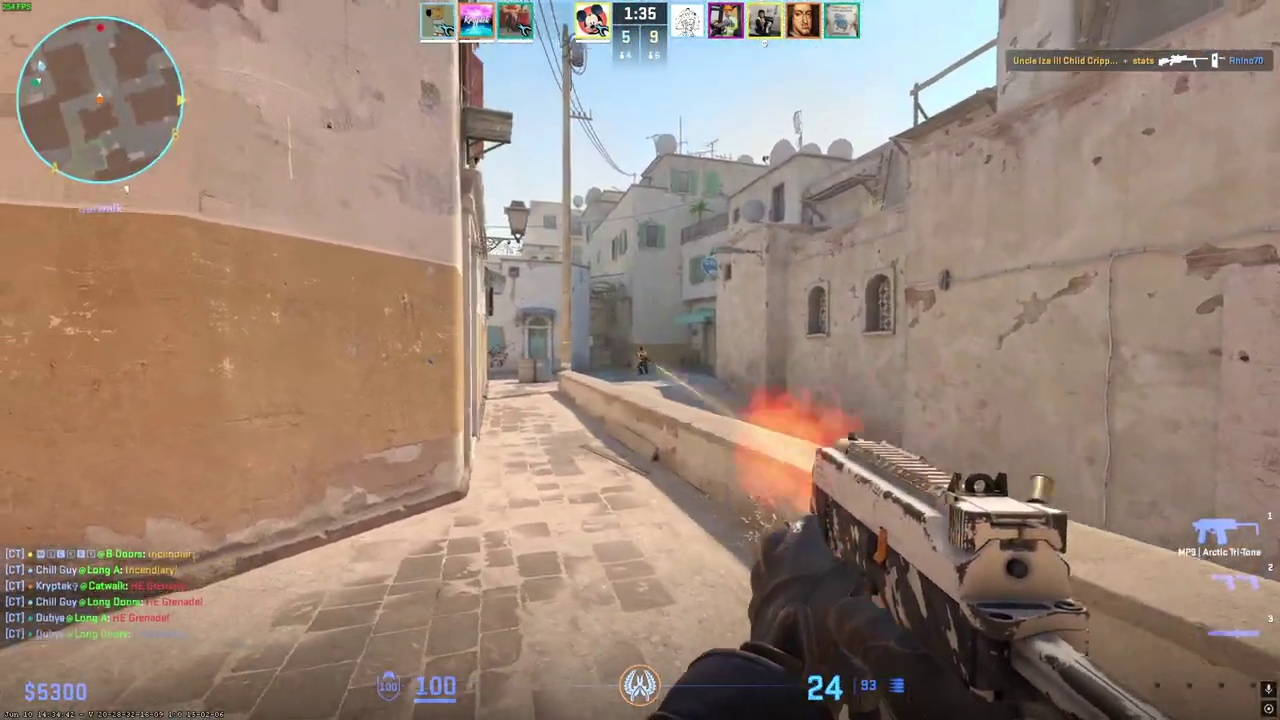Terrorist: (636, 347, 649, 375)
